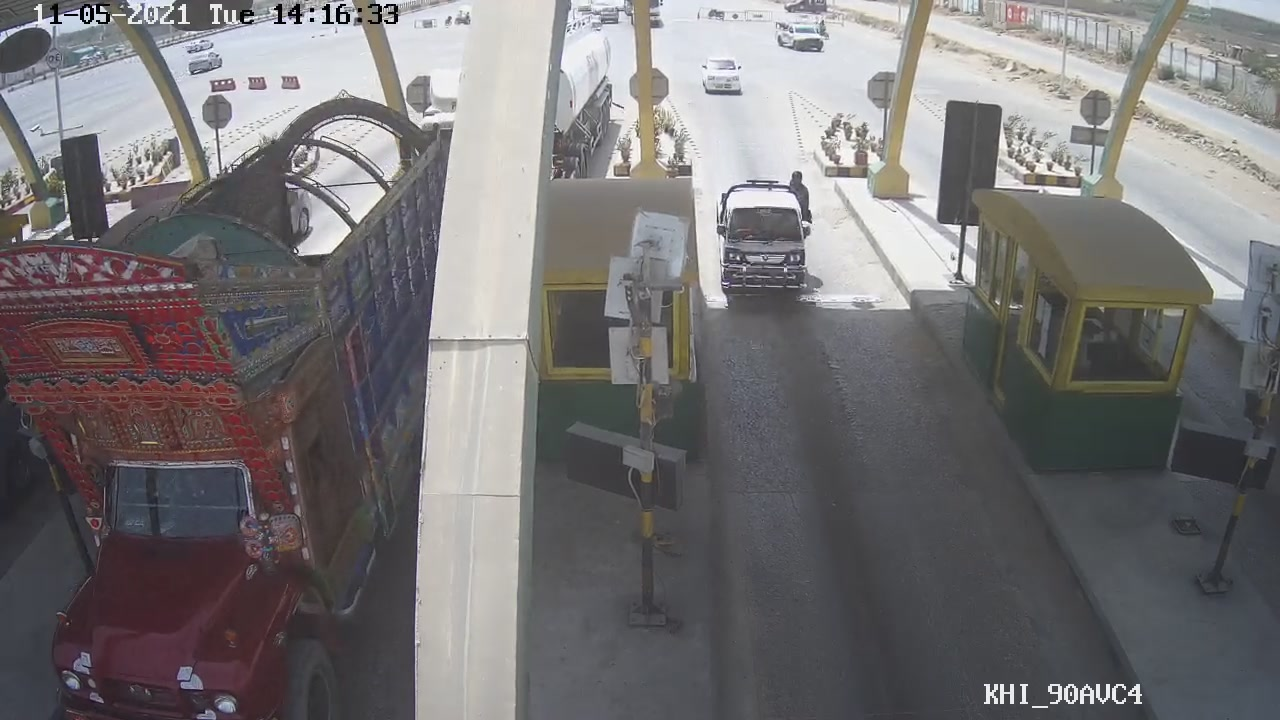F1: (702, 161, 819, 311)
